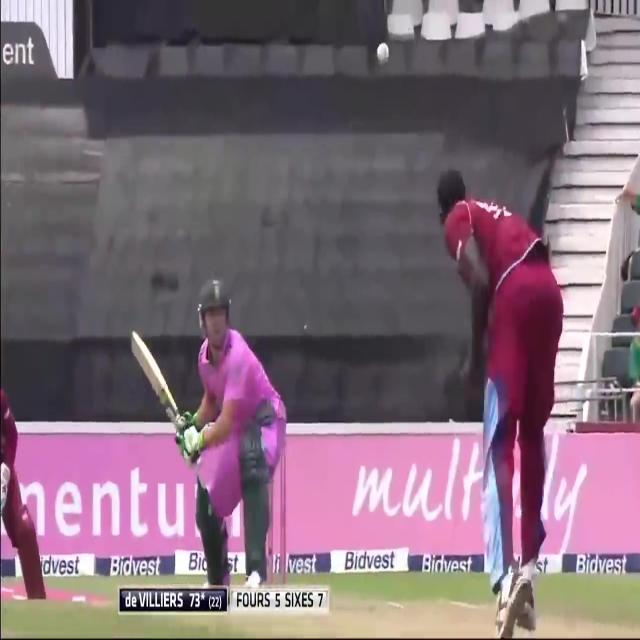Ball: (172, 279, 292, 587)
Batsman: (375, 37, 389, 71)
Fielder: (434, 166, 558, 634)
